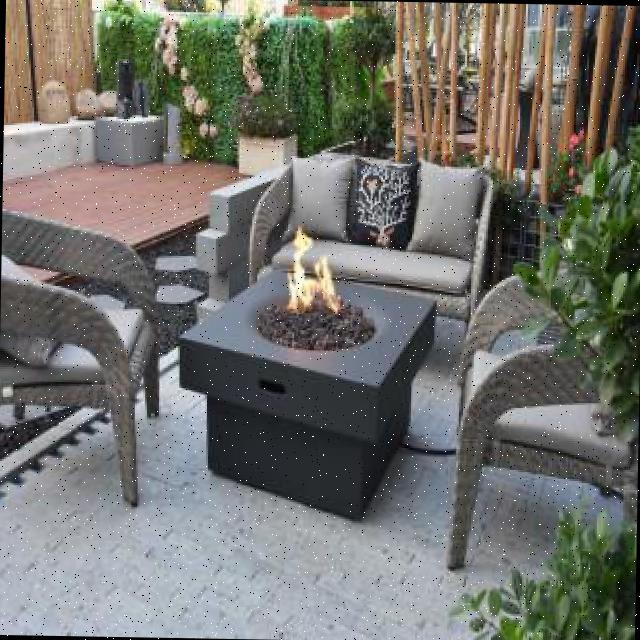fire: (280, 230, 342, 314)
